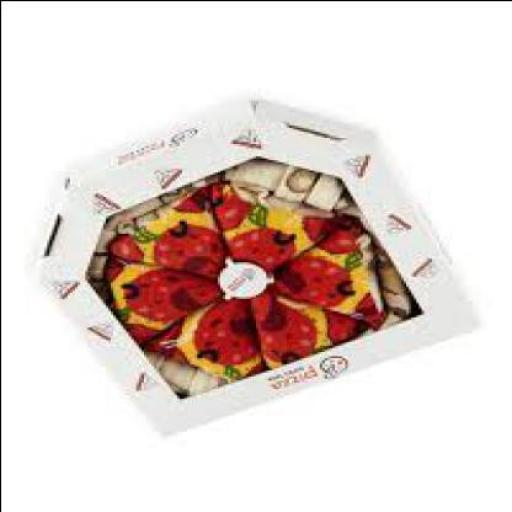biodegradable: (273, 228, 387, 330), (104, 261, 227, 347), (214, 190, 336, 276), (109, 193, 229, 276), (258, 292, 360, 371), (186, 304, 264, 384)
cardboard: (41, 102, 486, 443)
